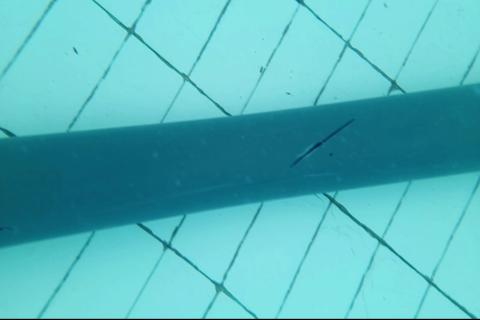keretakan: (290, 115, 355, 169)
